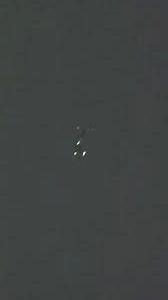Plane: (64, 133, 93, 165)
